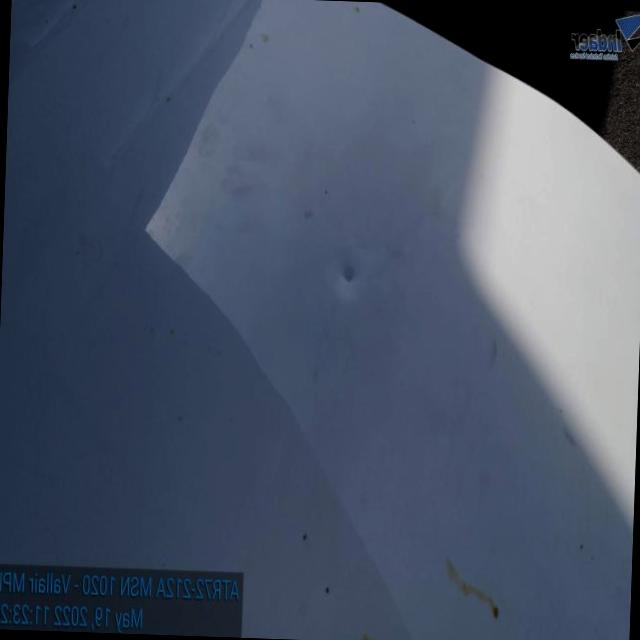dent: (316, 234, 376, 316)
